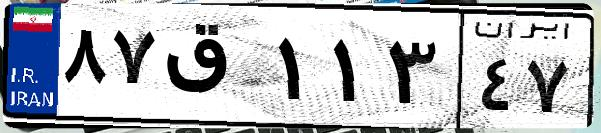1: (270, 28, 330, 110), (330, 28, 385, 110)
3: (385, 28, 445, 110)
4: (475, 38, 525, 113)
7: (525, 38, 570, 115), (110, 28, 158, 98)
8: (57, 26, 110, 100)
ق: (158, 20, 270, 120)
